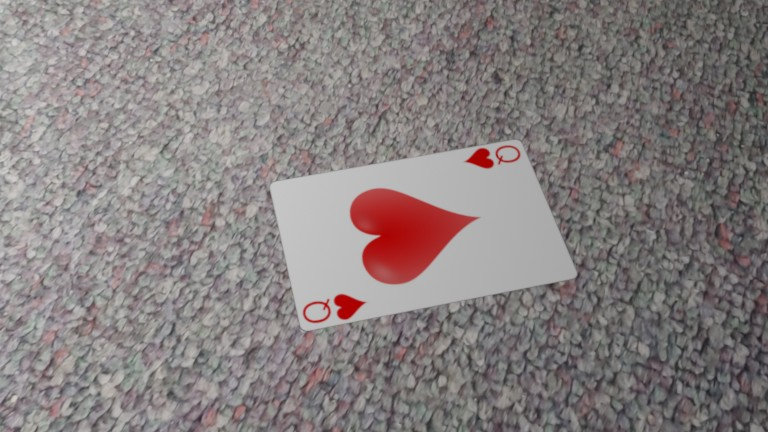queen_of_hearts: (299, 287, 372, 329), (460, 141, 527, 175)
